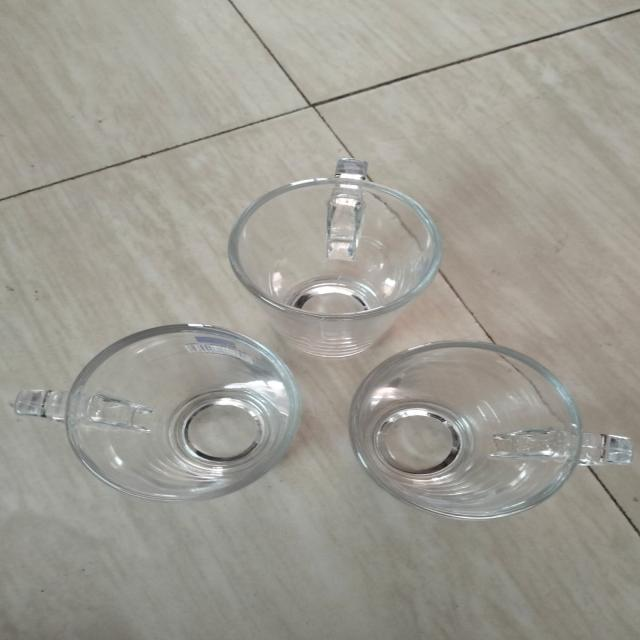glass-VX4N: (5, 319, 296, 506), (360, 335, 640, 524), (233, 158, 446, 368)
